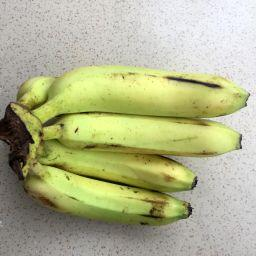banana: (0, 64, 253, 126), (6, 155, 195, 228), (0, 109, 245, 159), (6, 139, 199, 196), (15, 74, 58, 111)
